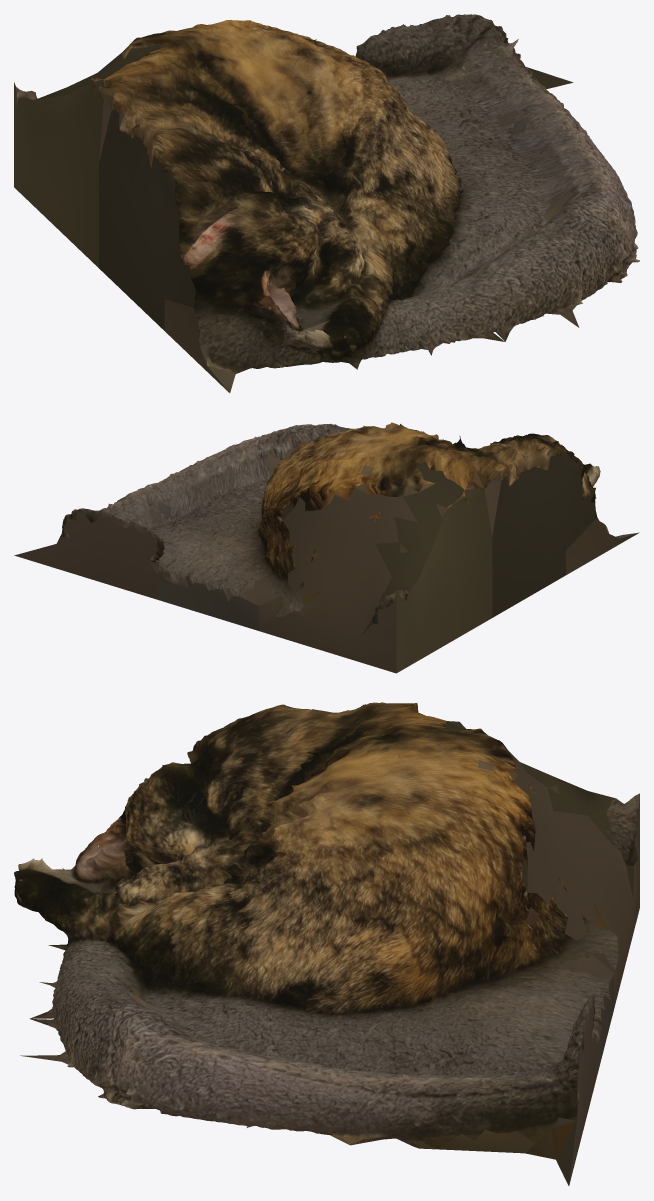
Rendered from cat-mobile.glb.
3 views of the same model, one above another, from view 1: azimuth 30°, elevation 25°; view 2: azimuth 150°, elevation 25°; view 3: azimuth 270°, elevation 25° (orthographic). The views are drawn at different scales.
Parts seen in each view (by area): view 1: Object_2, Object_3, Object_4; view 2: Object_2, Object_3, Object_4; view 3: Object_2, Object_3, Object_4.
Part boxes in pixels (x1,y1,x2,y2): Object_2: (14, 14, 639, 358); Object_3: (99, 21, 636, 392); Object_4: (16, 24, 627, 372); Object_2: (14, 422, 560, 673); Object_3: (68, 424, 639, 621); Object_4: (103, 423, 600, 636); Object_2: (20, 702, 639, 1185); Object_3: (14, 703, 623, 1185); Object_4: (16, 706, 639, 1159).
Size of the model in its own units: 50.73 by 16.78 by 43.97.
Materials: 1 (1 with a texture image).
